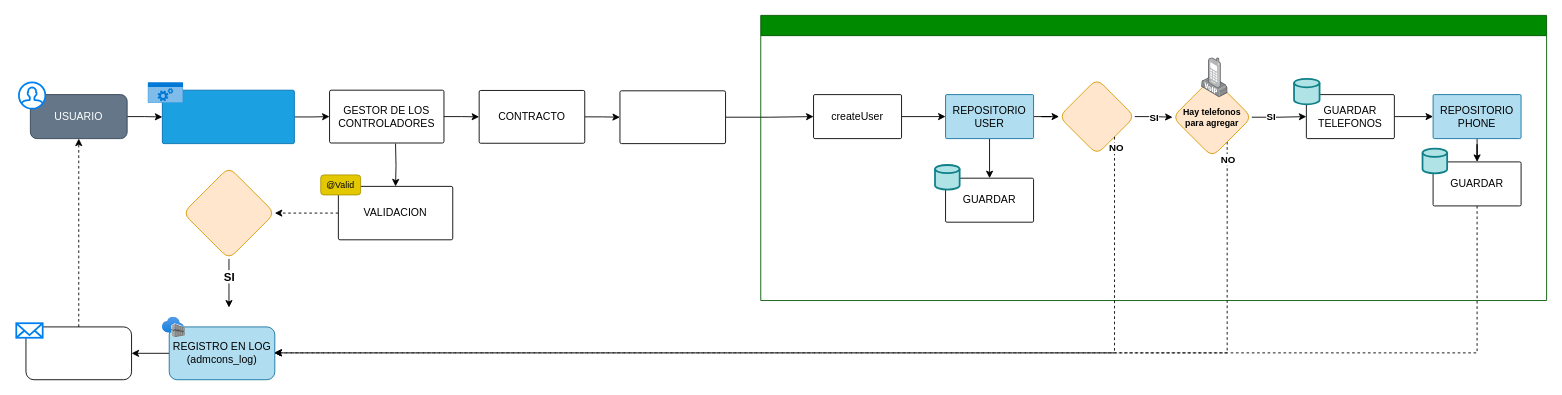
The diagram is 1562 pixels wide and 395 high, and some of its shapes have lost their labels. The shapes that lost their labels are listed below. From the top down, each one's box as (x1, y1, x2, y2) in pixels, then its label:
(161, 89, 294, 144): MICROSERVICIO - API USER
(619, 90, 726, 144): SERVICIO
(1058, 78, 1135, 154): Usuario guardado
(760, 15, 1547, 301): CREACION DE USUARIO
(182, 166, 275, 259): INCORRECTO(S)
(25, 326, 132, 380): RESPUESTA DEL MENSAJE
